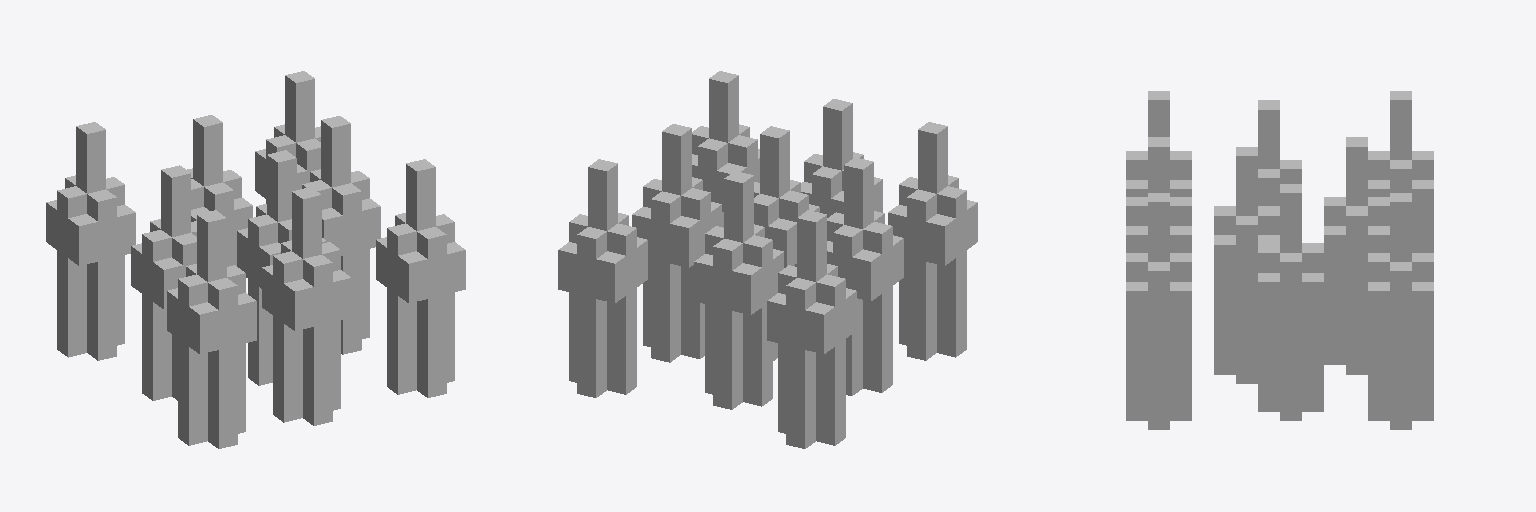
Rendered from trapworks_spikes_spikes_fall_with_spikes.obj.
3 renders of one model, left to right at view 1: azimuth 30°, elevation 25°; view 2: azimuth 150°, elevation 25°; view 3: azimuth 270°, elevation 25°, orthographic.
Parts seen in each view (by area): view 1: node_0_0_0; view 2: node_0_0_0; view 3: node_0_0_0.
Boxes of the visible parts, <box> form: node_0_0_0: <box>46,71,465,448</box>; node_0_0_0: <box>558,71,977,448</box>; node_0_0_0: <box>1126,91,1433,429</box>.
Size of the model in its own units: 0.875 by 0.6875 by 0.875.